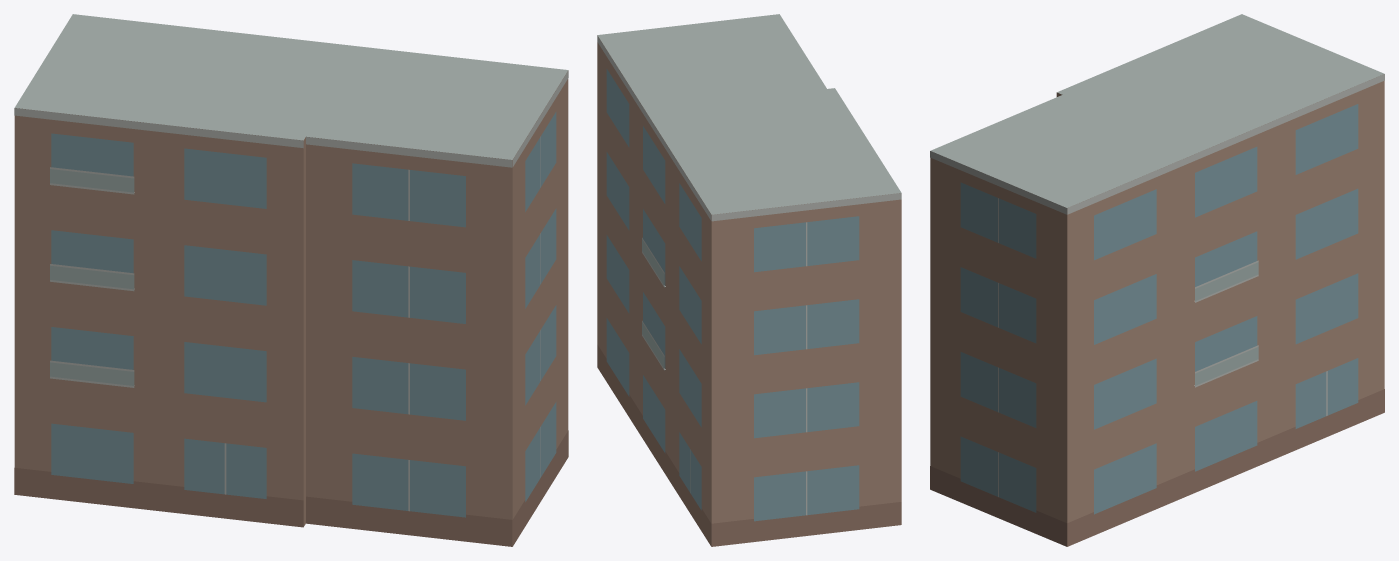
File: survey-upis-32616611.glb
The picture shows the model from 3 angles, left to right: view 1: azimuth 30°, elevation 25°; view 2: azimuth 150°, elevation 25°; view 3: azimuth 270°, elevation 25°; orthographic projection. The views are drawn at different scales.
Visible parts, largest first — view 1: survey-upis-32616611.tmp; view 2: survey-upis-32616611.tmp; view 3: survey-upis-32616611.tmp.
Part boxes in pixels (box(x1,y1,x2,y2)): survey-upis-32616611.tmp: box(14, 14, 568, 546); survey-upis-32616611.tmp: box(597, 14, 901, 546); survey-upis-32616611.tmp: box(930, 14, 1384, 546).
Bounding box in the file's own units: 15.06 × 12.25 × 14.9.
